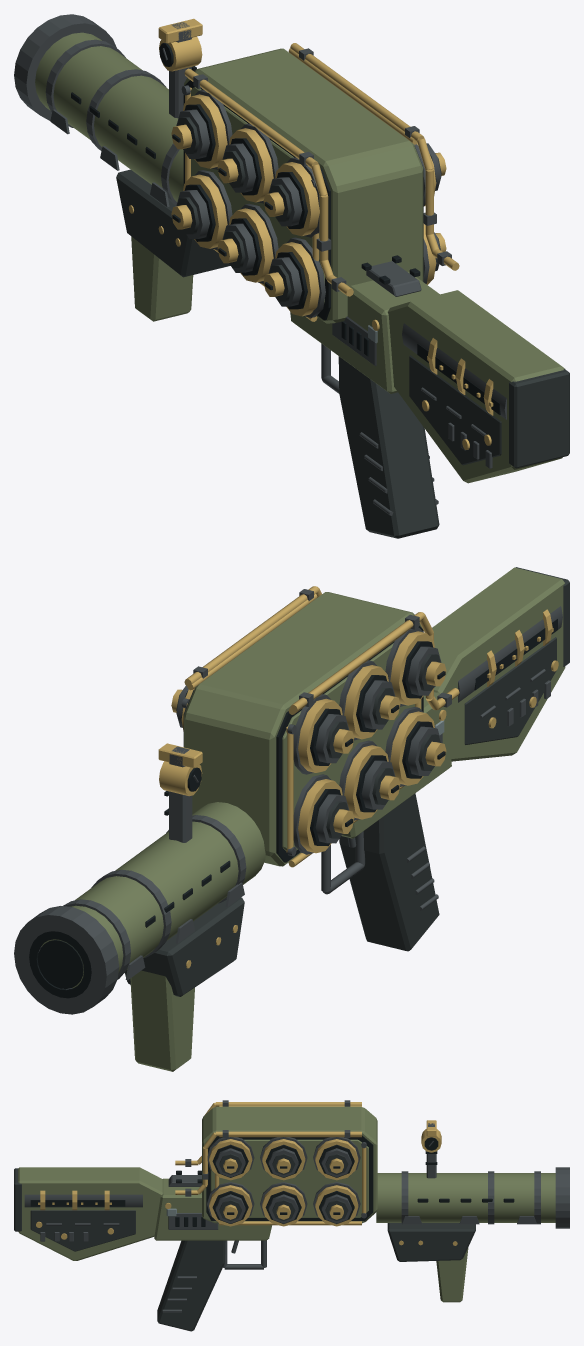
The model's file is grenade_0.glb.
3 views of the same model, one above another, from view 1: azimuth 30°, elevation 25°; view 2: azimuth 150°, elevation 25°; view 3: azimuth 270°, elevation 25° (orthographic). The views are drawn at different scales.
Parts seen in each view (by area): view 1: Weapon_grenade_v1; view 2: Weapon_grenade_v1; view 3: Weapon_grenade_v1.
Boxes of the visible parts, x1,y1,x2,y2 form: Weapon_grenade_v1: [14, 14, 569, 538]; Weapon_grenade_v1: [14, 567, 569, 1071]; Weapon_grenade_v1: [14, 1100, 569, 1331].
Size of the model in its own units: 0.162 by 0.3222 by 0.775.
